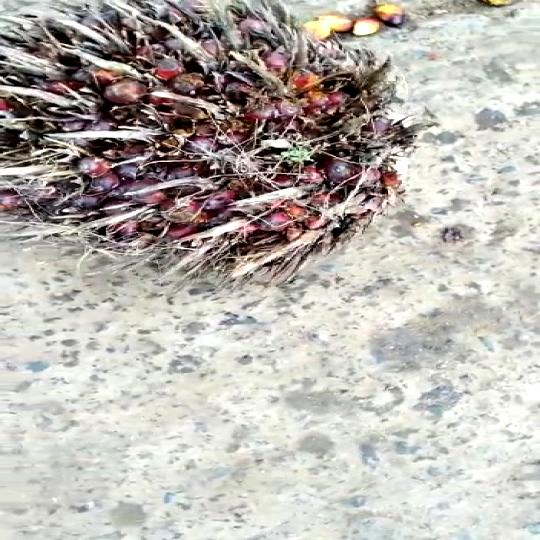terlalu masak: (0, 0, 426, 283)
